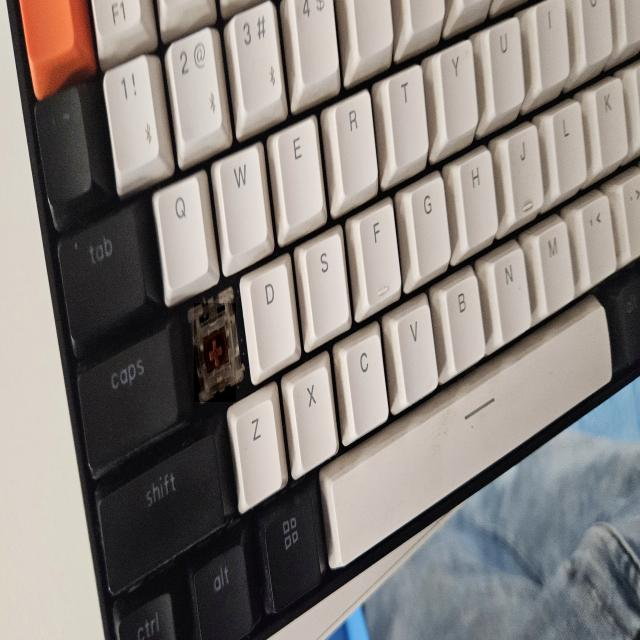C: (194, 303, 236, 402)
